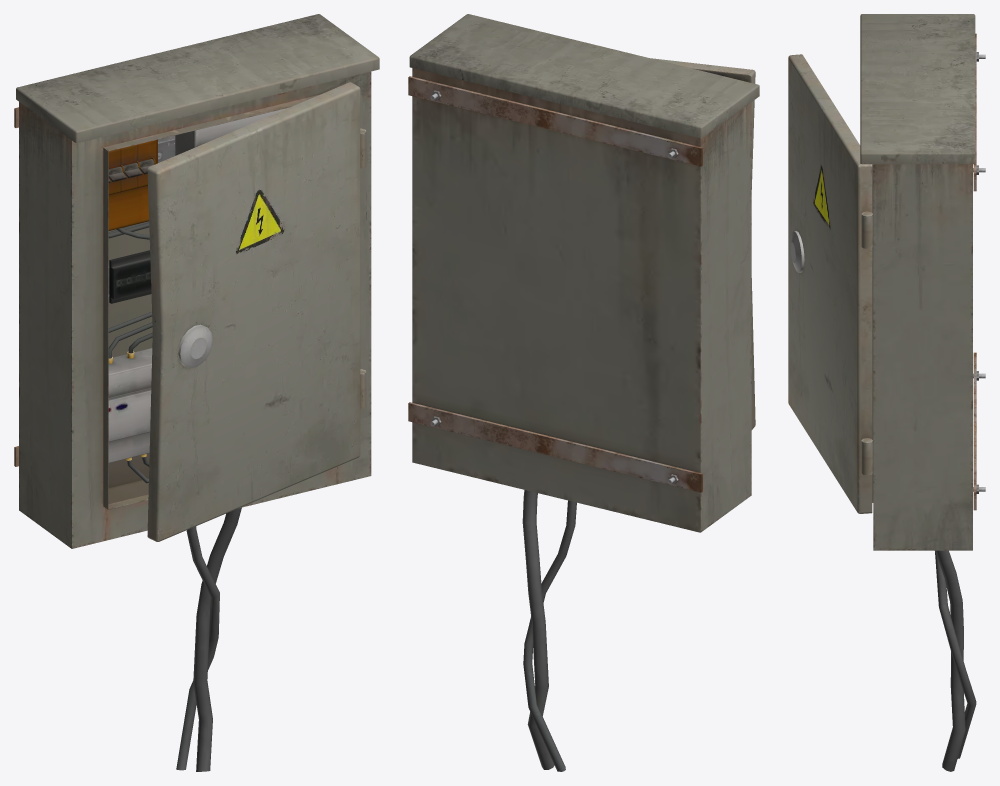
Rendered from electrical_panel.glb.
3 renders of one model, left to right at view 1: azimuth 30°, elevation 25°; view 2: azimuth 150°, elevation 25°; view 3: azimuth 270°, elevation 25°, orthographic. The views are drawn at different scales.
Visible parts, largest first — view 1: electrical_panel; view 2: electrical_panel; view 3: electrical_panel.
Part boxes in pixels (box(x1,y1,x2,y2)): electrical_panel: box(14, 14, 379, 771); electrical_panel: box(408, 14, 759, 771); electrical_panel: box(788, 14, 985, 771).
Size of the model in its own units: 0.3417 by 0.7698 by 0.2033.
Materials: 1 (1 with a texture image).
